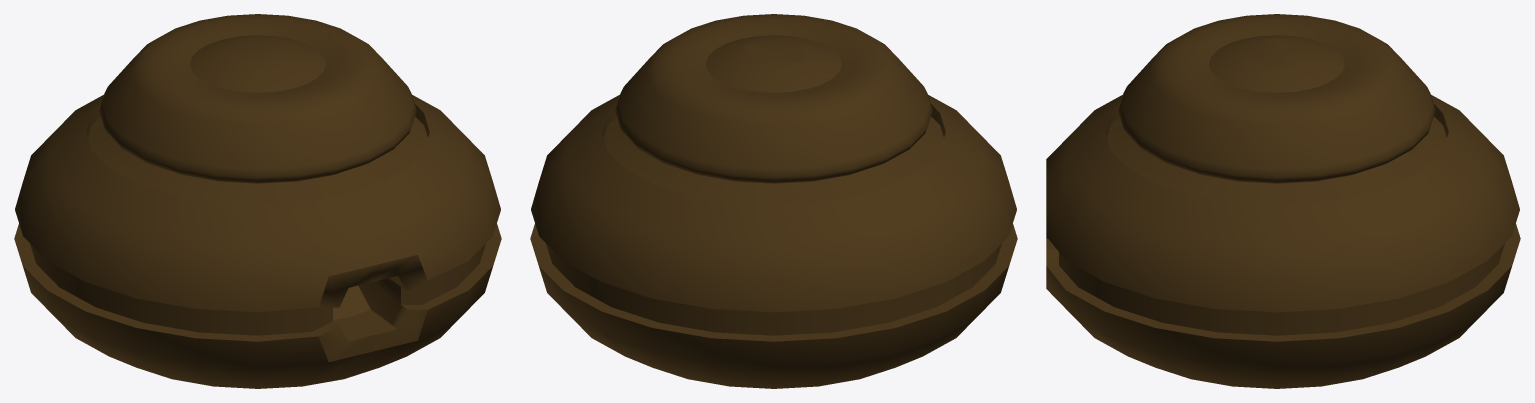
The model's file is Sampo Body.FBX.
3 renders of one model, left to right at view 1: azimuth 30°, elevation 25°; view 2: azimuth 150°, elevation 25°; view 3: azimuth 270°, elevation 25°, orthographic.
Parts seen in each view (by area): view 1: Sampo; view 2: Sampo; view 3: Sampo.
Boxes of the visible parts, x1,y1,x2,y2 form: Sampo: (14,14,501,388); Sampo: (530,14,1017,388); Sampo: (1046,14,1520,388).
Size of the model in its own units: 0.0802 by 0.078 by 0.0478.
